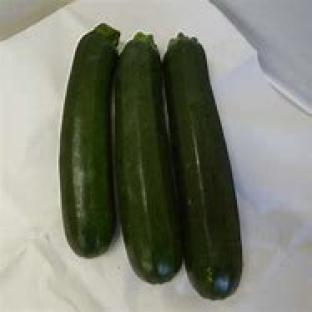Zucchini: (164, 34, 241, 298), (116, 34, 181, 283), (59, 26, 120, 256)
